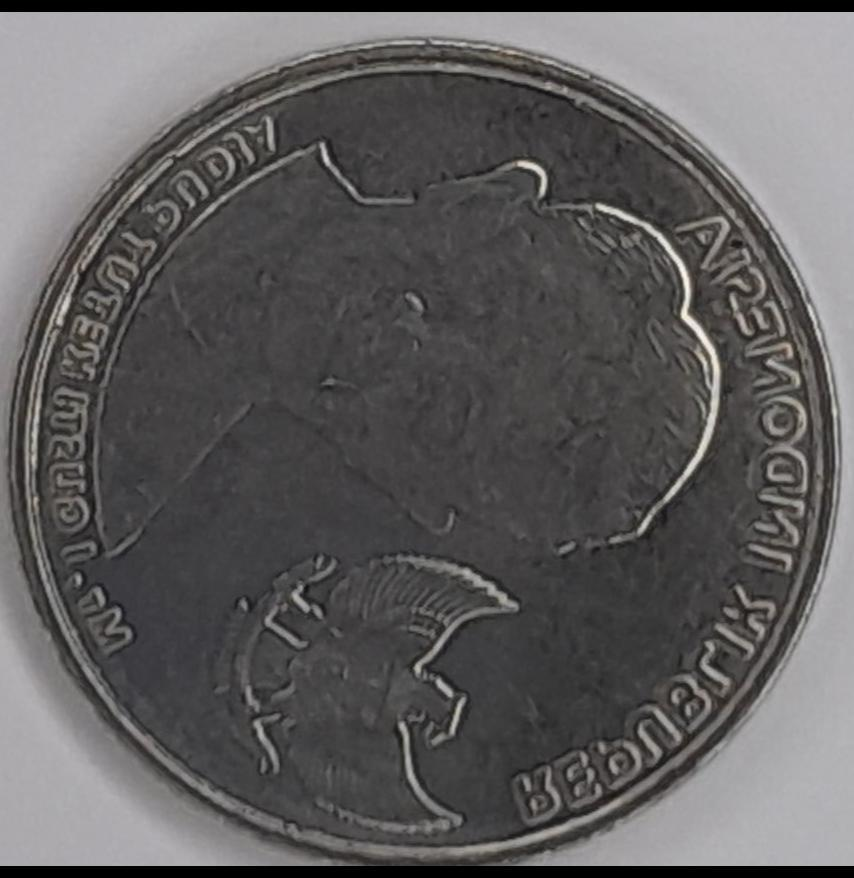coin_1000_e2016: (15, 17, 843, 878)
